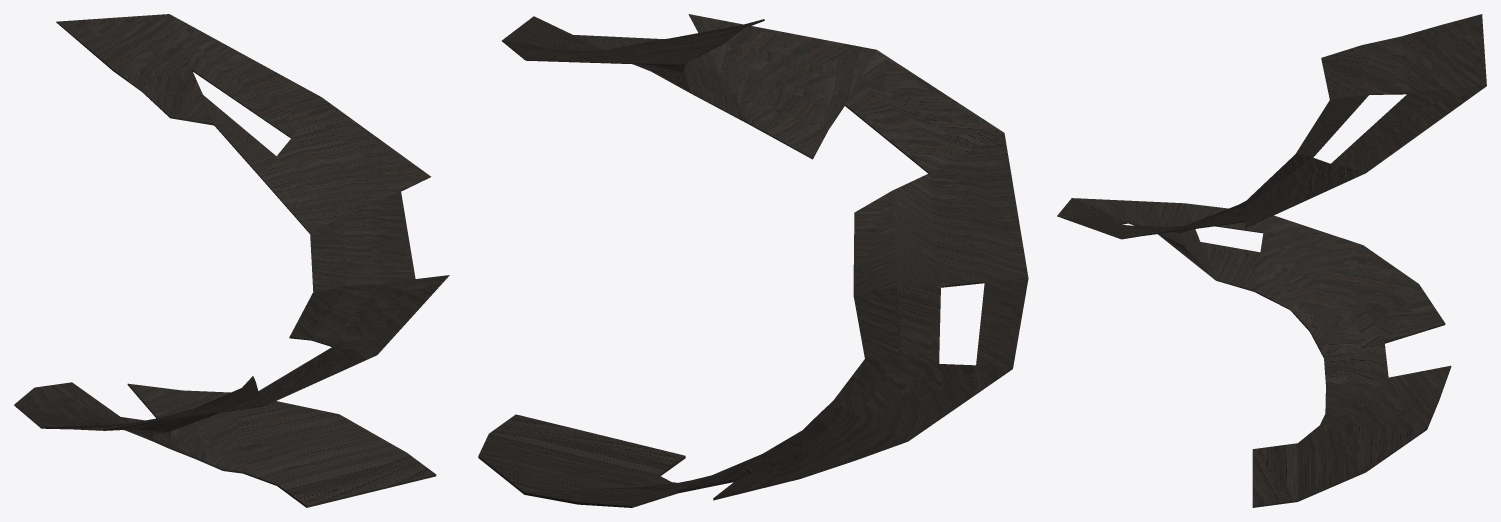
The model's file is Tower Spiral.fbx.
The picture shows the model from 3 angles, left to right: view 1: azimuth 30°, elevation 25°; view 2: azimuth 150°, elevation 25°; view 3: azimuth 270°, elevation 25°; orthographic projection. The views are drawn at different scales.
Visible parts, largest first — view 1: Spiral; view 2: Spiral; view 3: Spiral.
Part boxes in pixels (x1=…): Spiral: x1=14, y1=14, x2=449, y2=507; Spiral: x1=478, y1=14, x2=1028, y2=507; Spiral: x1=1057, y1=14, x2=1486, y2=507.
Size of the model in its own units: 8953 by 9354 by 9532.
Materials: 1 (1 with a texture image).
